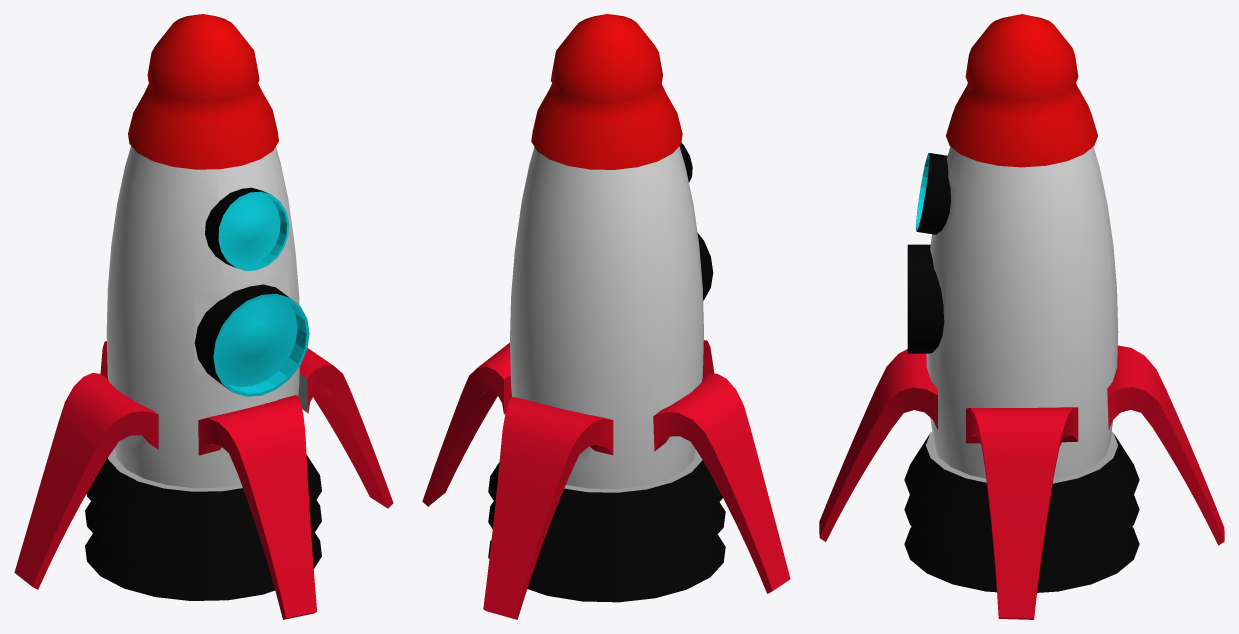
Rendered from ToyRocket.fbx.
3 views of the same model, side by side, from view 1: azimuth 30°, elevation 25°; view 2: azimuth 150°, elevation 25°; view 3: azimuth 270°, elevation 25° (orthographic).
Parts seen in each view (by area): view 1: pCube5; view 2: pCube5; view 3: pCube5.
Boxes of the visible parts, left/top/right/bottom form: pCube5: left=14, top=14, right=393, bottom=619; pCube5: left=422, top=14, right=790, bottom=619; pCube5: left=819, top=14, right=1224, bottom=619.
Bounding box in the file's own units: 4.22 × 6.18 × 4.22.
